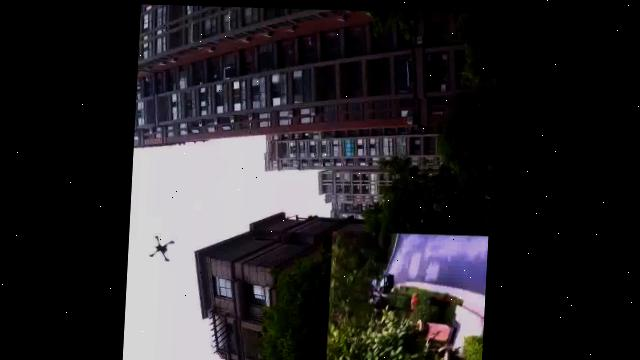drone: (139, 232, 181, 264)
